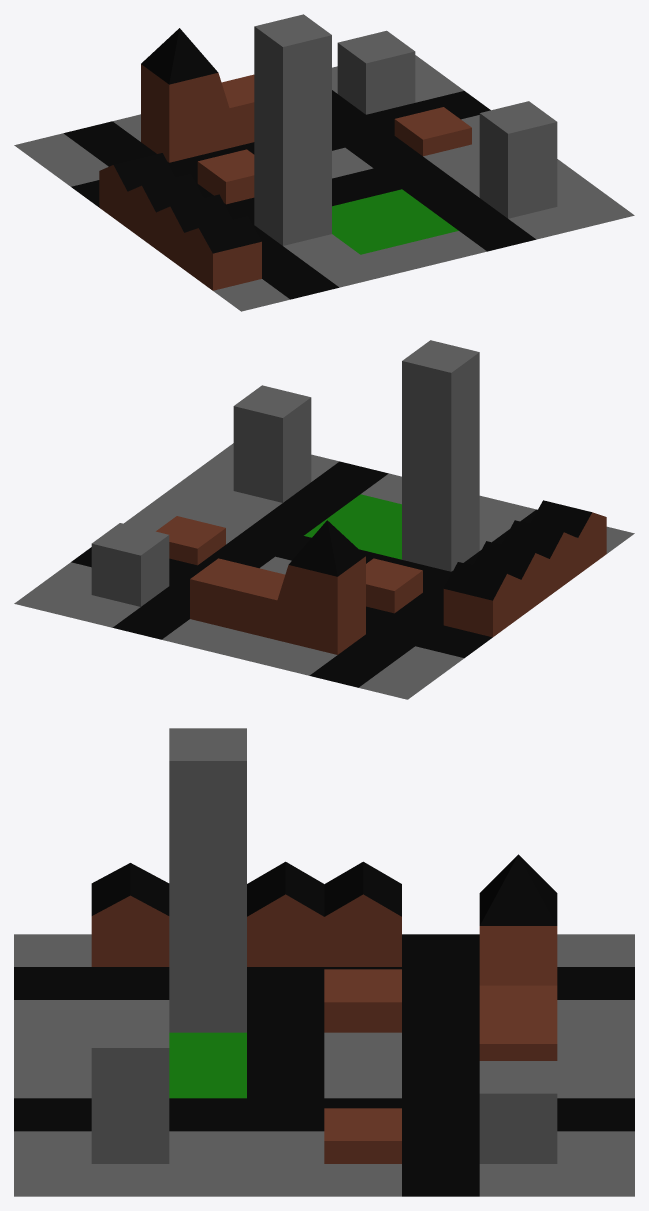
File: town.fbx
3 renders of one model, top to bottom at view 1: azimuth 30°, elevation 25°; view 2: azimuth 150°, elevation 25°; view 3: azimuth 270°, elevation 25°, orthographic. The views are drawn at different scales.
Parts seen in each view (by area): view 1: Plane; view 2: Plane; view 3: Plane.
Part boxes in pixels (bbox=[...]): Plane: bbox=[14, 14, 634, 311]; Plane: bbox=[14, 340, 634, 699]; Plane: bbox=[14, 728, 634, 1196].
Bounding box in the file's own units: 1565 × 756 × 1565.
